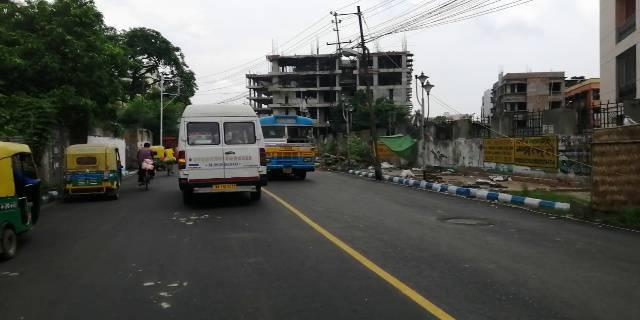Autorickshaw: (1, 138, 50, 260), (58, 138, 122, 200)
Bus: (256, 108, 320, 184)
Car: (171, 96, 268, 205)
